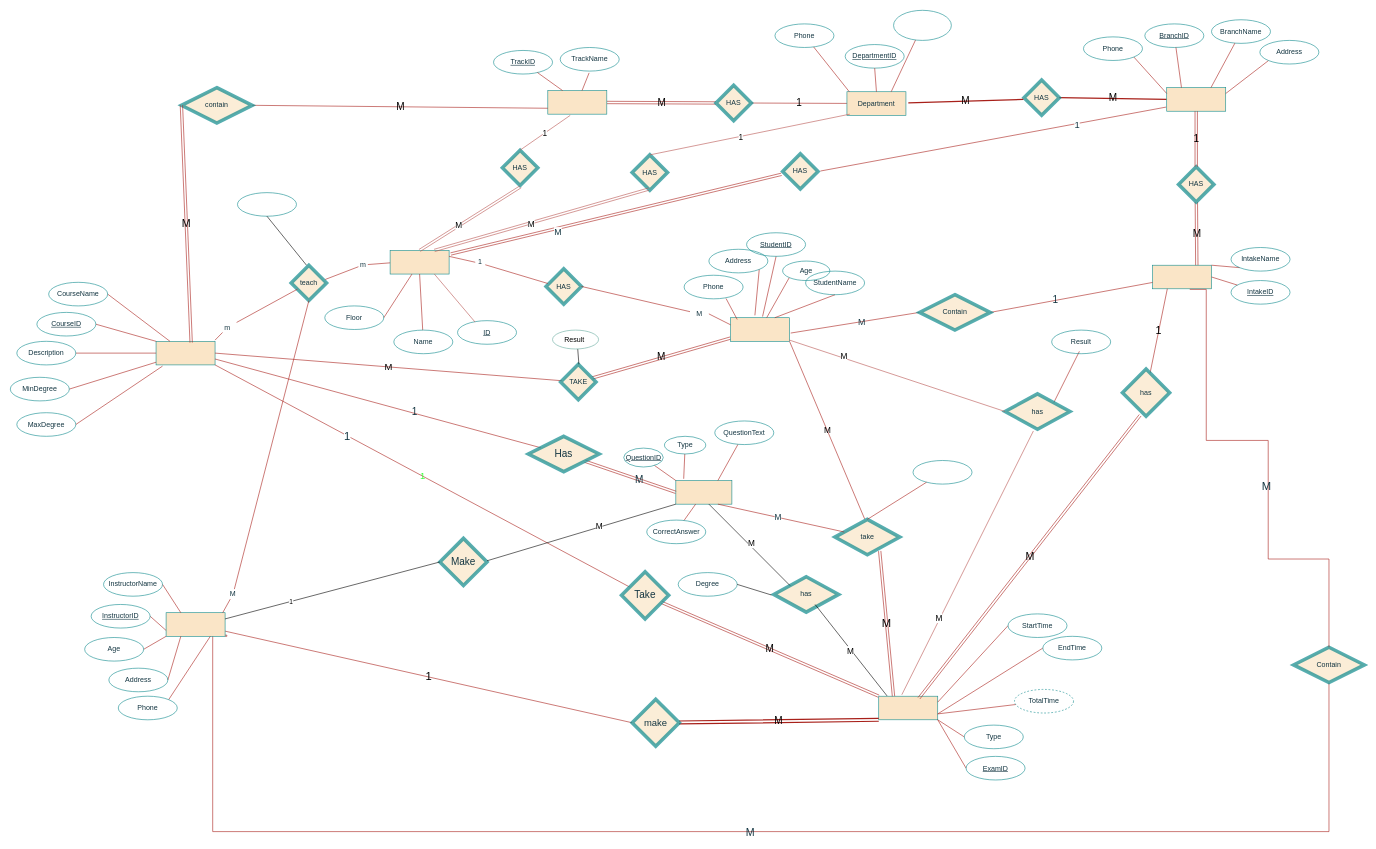
Some shapes in this 1376 by 849 pixel diagram are drawn without their labels. The shapes that lost their labels are listed below. From the top down, each one's box as (x1, y1, x2, y2) in pixels, then its label:
(893, 10, 951, 40): DepartmentName
(547, 90, 607, 114): Track
(1166, 87, 1226, 111): Branch
(237, 192, 296, 216): Year
(390, 250, 449, 274): Class
(1152, 265, 1212, 289): Intake
(730, 317, 790, 341): Student
(155, 341, 215, 365): Course
(675, 480, 732, 504): Question
(912, 460, 972, 484): Answers
(165, 612, 225, 636): Instructor
(878, 696, 938, 720): Exam
